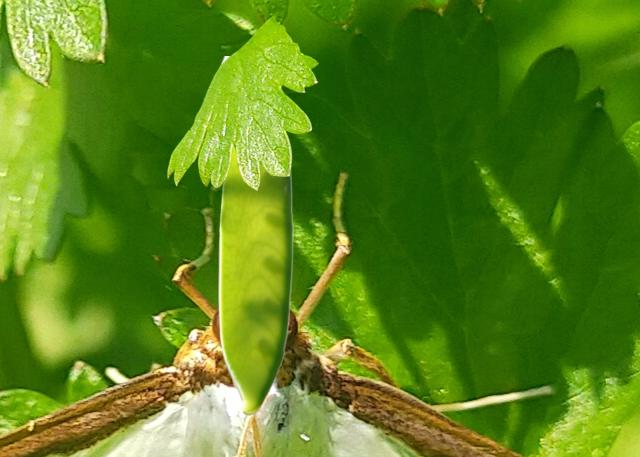pea: (218, 56, 293, 415)
